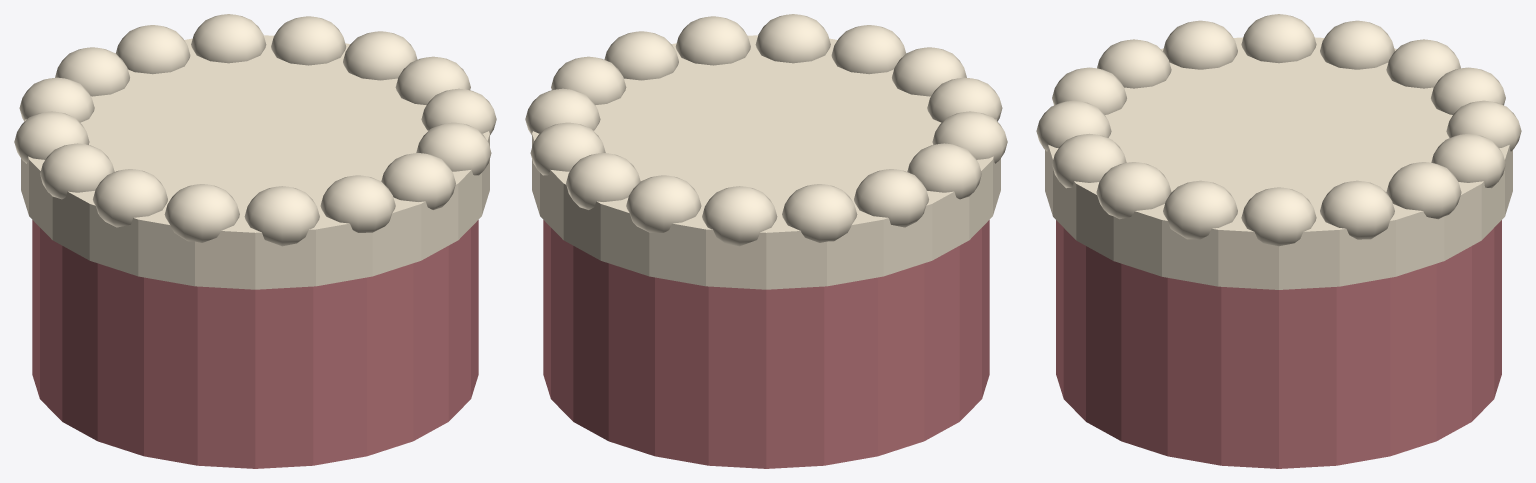
The model's file is cake_top.glb.
The picture shows the model from 3 angles, left to right: view 1: azimuth 30°, elevation 25°; view 2: azimuth 150°, elevation 25°; view 3: azimuth 270°, elevation 25°; orthographic projection.
Parts seen in each view (by area): view 1: cake_top; view 2: cake_top; view 3: cake_top.
Boxes of the visible parts, bbox=[...] form: cake_top: bbox=[14, 14, 496, 468]; cake_top: bbox=[525, 14, 1007, 468]; cake_top: bbox=[1036, 14, 1521, 468].
Size of the model in its own units: 0.3484 by 0.214 by 0.3484.
